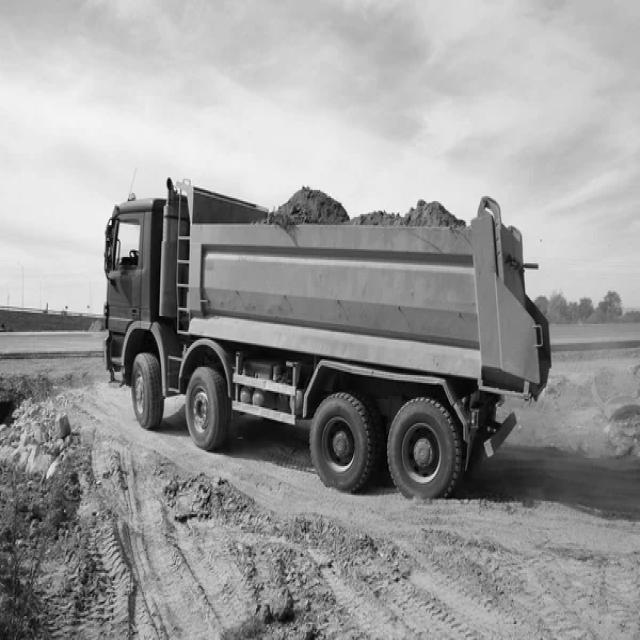Truck: (105, 180, 552, 498)
